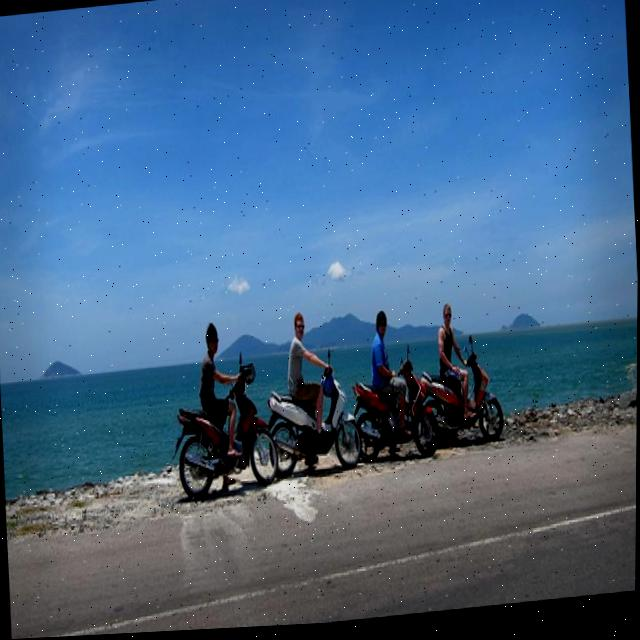motorcycle: (166, 368, 281, 502), (262, 367, 369, 484), (345, 360, 441, 469), (415, 354, 513, 453)
